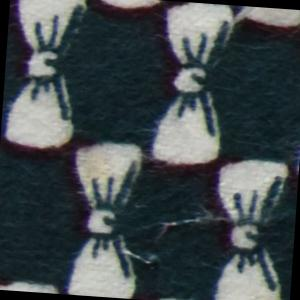Damage: (105, 187, 288, 286)
